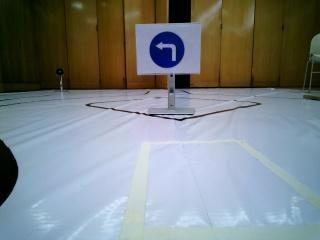left: (142, 27, 198, 70)
